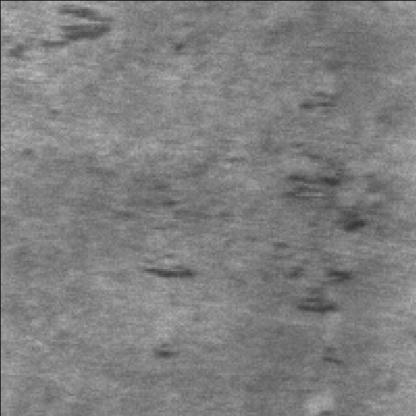rolled-in_scale: (262, 79, 376, 318), (29, 0, 121, 46)
